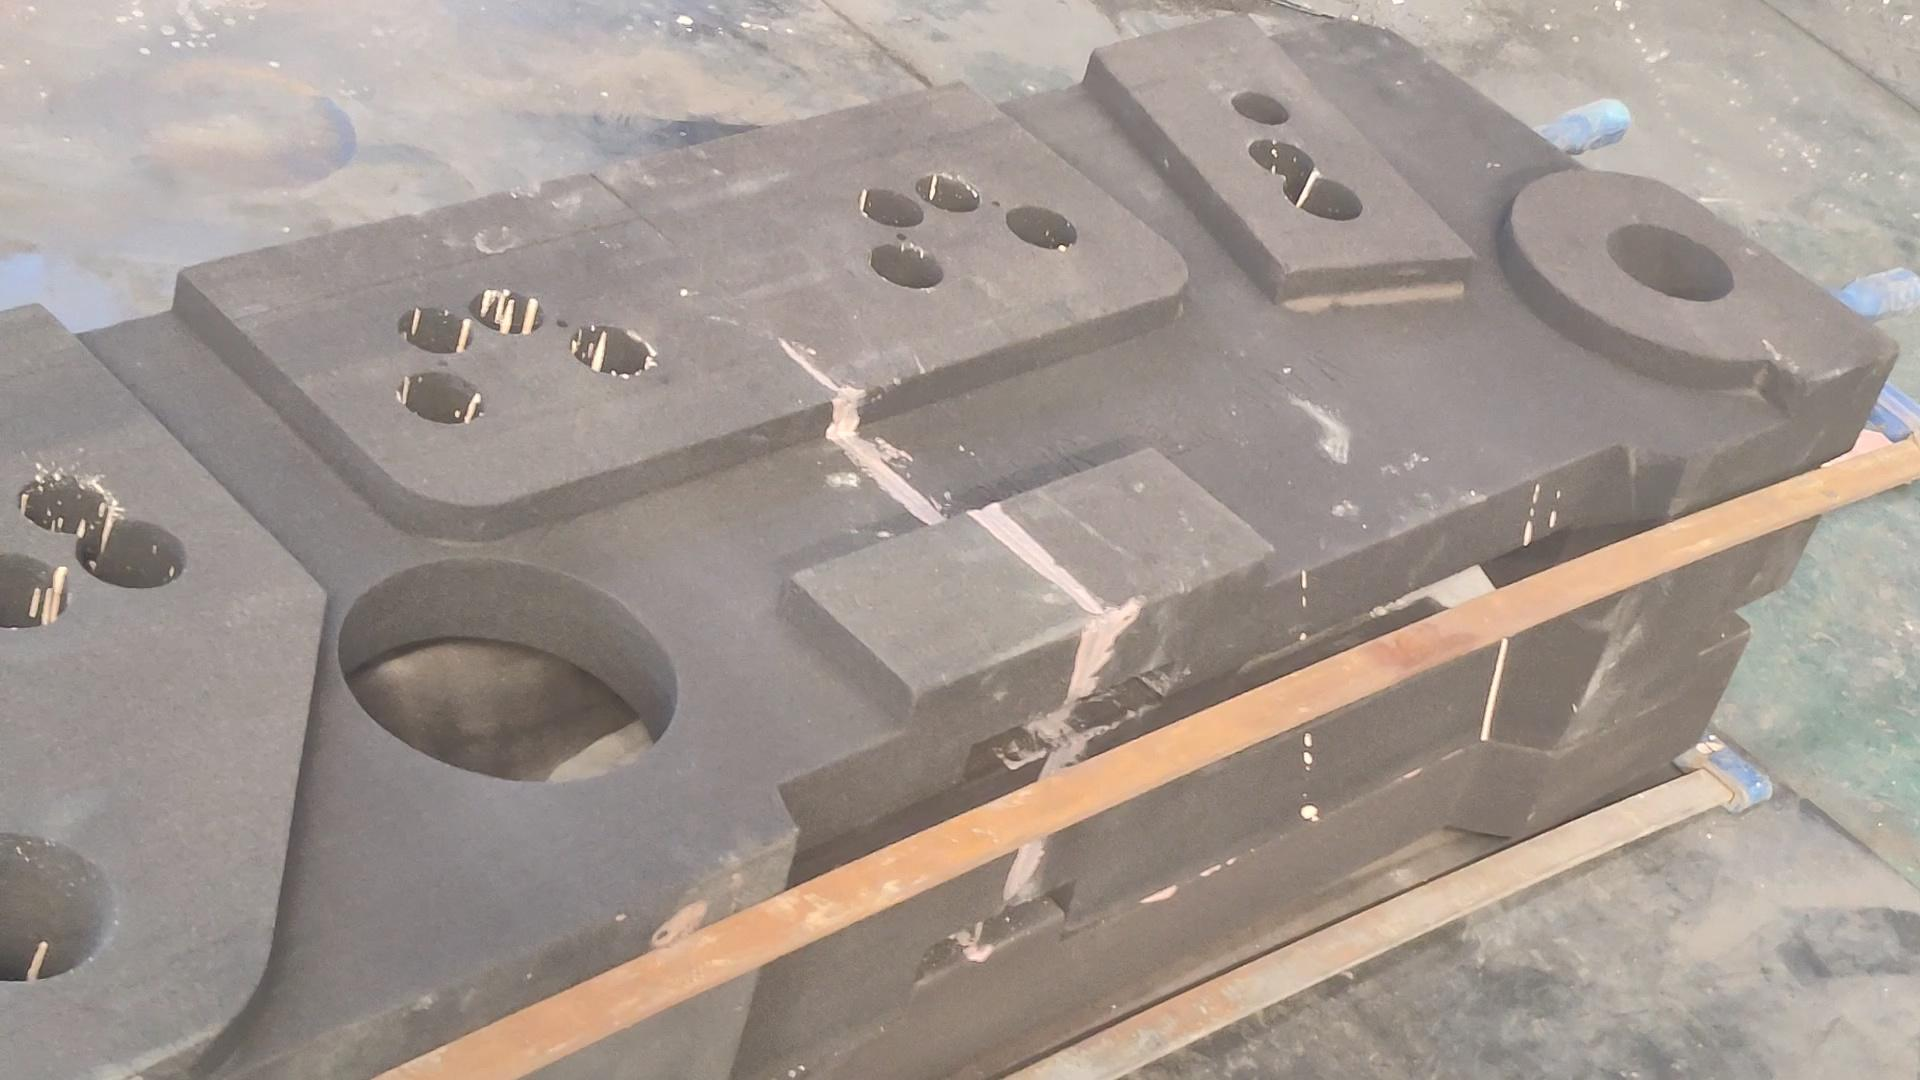pouring hole: (1, 829, 117, 980), (1604, 220, 1735, 305)
